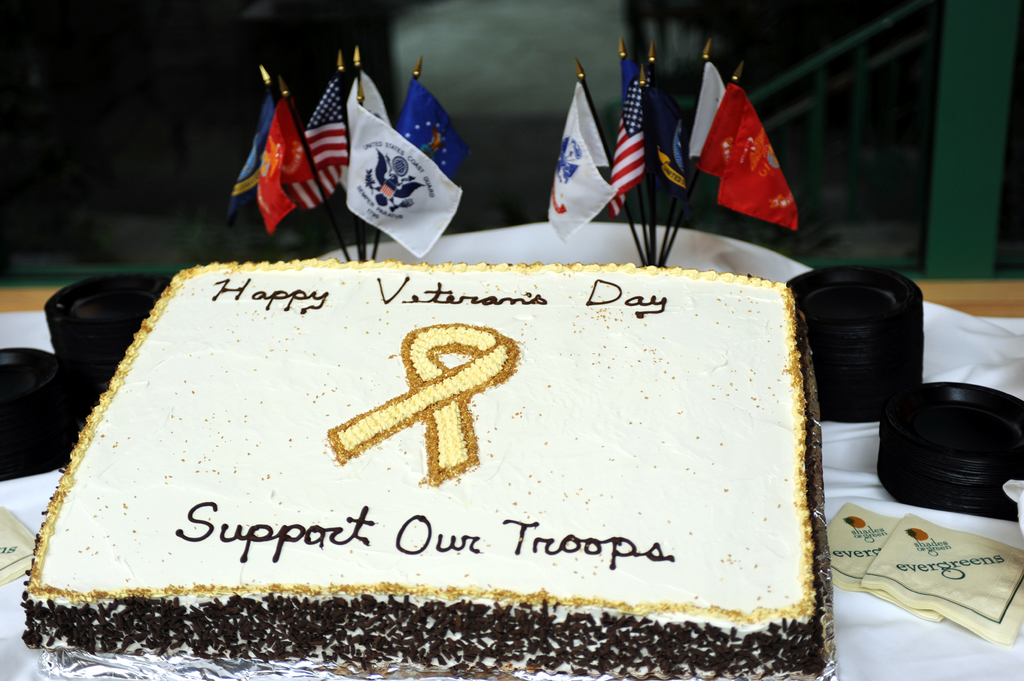cake: (15, 262, 824, 680)
